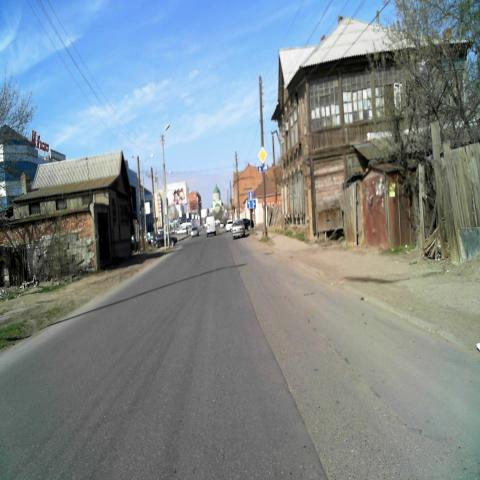2_1: (258, 146, 268, 164)
5_15_2_2: (246, 199, 256, 209)
5_6: (248, 190, 254, 200)
6_15_1: (258, 165, 270, 173)
